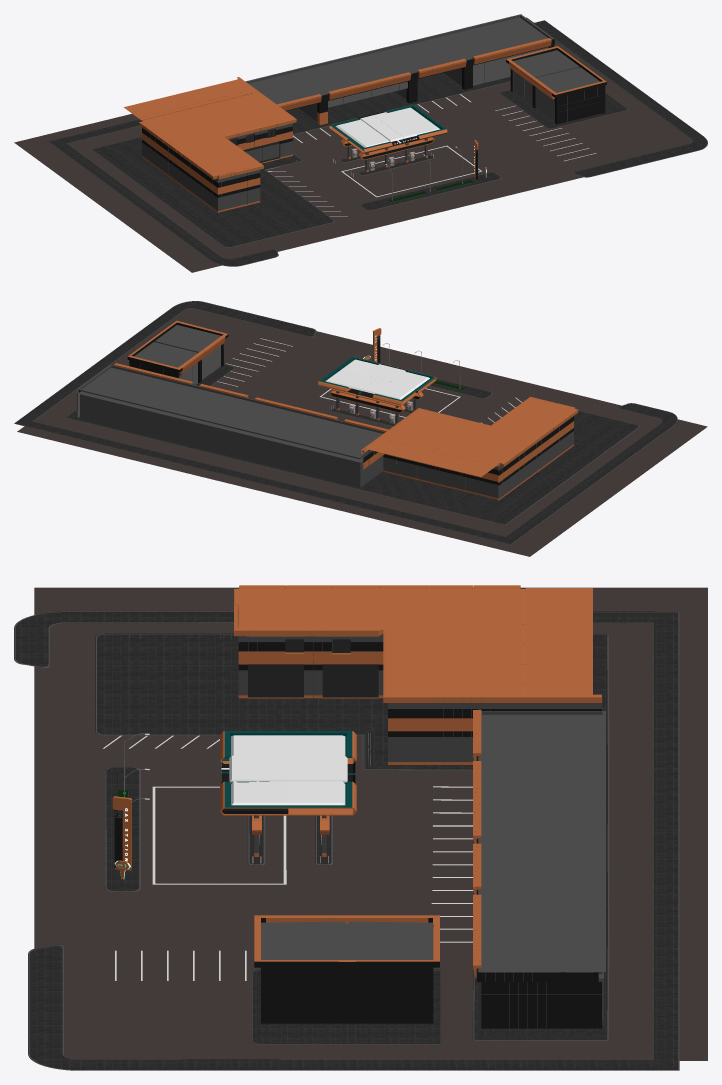
Rendered from posto.glb.
3 views of the same model, one above another, from view 1: azimuth 30°, elevation 25°; view 2: azimuth 150°, elevation 25°; view 3: azimuth 270°, elevation 25° (orthographic). The views are drawn at different scales.
Visible parts, largest first — view 1: Plane.001, Cube.002, Plane.008, Plane.337, Cube.003, Plane.006, Plane.005, Plane.335; view 2: Cube.002, Plane.001, Plane.008, Plane.337, Plane.335, Cube.003, Plane.005, Plane.006; view 3: Plane.001, Cube.002, Plane.008, Plane.337, Plane.006, Plane.005, Plane.336.
Boxes of the visible parts, <box> form: Plane.001: <box>14,17,692,272</box>; Cube.002: <box>124,14,606,212</box>; Plane.008: <box>48,20,707,266</box>; Plane.337: <box>329,104,447,153</box>; Cube.003: <box>328,47,554,121</box>; Plane.006: <box>360,172,501,210</box>; Plane.005: <box>340,138,435,175</box>; Plane.335: <box>340,137,434,159</box>; Cube.002: <box>77,320,578,500</box>; Plane.001: <box>17,308,707,556</box>; Plane.008: <box>14,301,677,544</box>; Plane.337: <box>318,356,436,405</box>; Plane.335: <box>329,389,423,412</box>; Cube.003: <box>179,346,220,384</box>; Plane.005: <box>329,391,416,426</box>; Plane.006: <box>429,378,492,398</box>; Plane.001: <box>34,587,707,1060</box>; Cube.002: <box>234,585,605,1028</box>; Plane.008: <box>14,611,679,1070</box>; Plane.337: <box>220,731,356,815</box>; Plane.006: <box>105,767,140,891</box>; Plane.005: <box>247,815,332,865</box>; Plane.336: <box>112,796,131,870</box>.
Bounding box in the file's own units: 103 × 7.33 × 62.39.
41 materials, 3 textured.
